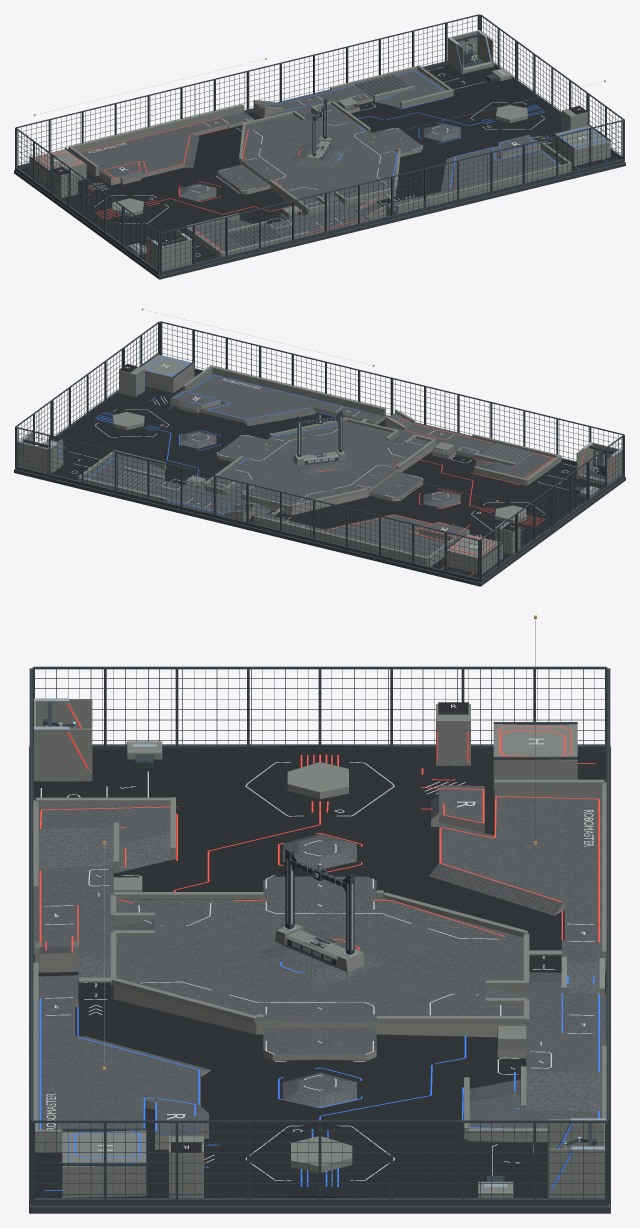
File: map-rmuc2026-ch4v3.glb
3 renders of one model, top to bottom at view 1: azimuth 30°, elevation 25°; view 2: azimuth 150°, elevation 25°; view 3: azimuth 270°, elevation 25°, orthographic. The views are drawn at different scales.
Parts seen in each view (by area): view 1: ArenaChapter4_GraphiteArmor, ArenaChapter4_HighlandAsphalt.001, ArenaChapter4_FieldBlack.001, ArenaChapter4_ProtectiveMetal.001, ArenaChapter4_ConcreteSide.001, ArenaChapter4_WhiteFieldPaint.001, ResourceStation.001_ProtectiveMetal.001, ArenaChapter4_BlueFieldPaint.001, ArenaChapter4_RedFieldPaint.001, RuneGantry_GraphiteArmor, ResourceStation.001_GraphiteArmor; view 2: ArenaChapter4_GraphiteArmor, ArenaChapter4_HighlandAsphalt.001, ArenaChapter4_FieldBlack.001, ArenaChapter4_ProtectiveMetal.001, ArenaChapter4_ConcreteSide.001, ArenaChapter4_WhiteFieldPaint.001, ArenaChapter4_BlueFieldPaint.001, ResourceStation_ProtectiveMetal.001, ArenaChapter4_RedFieldPaint.001, RuneGantry_GraphiteArmor, ResourceStation.001_ProtectiveMetal.001; view 3: ArenaChapter4_HighlandAsphalt.001, ArenaChapter4_FieldBlack.001, ArenaChapter4_GraphiteArmor, ArenaChapter4_ProtectiveMetal.001, ArenaChapter4_ConcreteSide.001, ArenaChapter4_WhiteFieldPaint.001, ArenaChapter4_RedFieldPaint.001, ResourceStation_ProtectiveMetal.001, ResourceStation.001_ProtectiveMetal.001, ArenaChapter4_BlueFieldPaint.001, RuneGantry_GraphiteArmor, RuneGantry_BrushedTitanium (+1 smaller).
Boxes of the visible parts, x1=… form: ArenaChapter4_GraphiteArmor: x1=14, y1=14, x2=625, y2=279; ArenaChapter4_HighlandAsphalt.001: x1=79, y1=69, x2=561, y2=251; ArenaChapter4_FieldBlack.001: x1=20, y1=64, x2=619, y2=263; ArenaChapter4_ProtectiveMetal.001: x1=29, y1=36, x2=610, y2=270; ArenaChapter4_ConcreteSide.001: x1=97, y1=98, x2=540, y2=256; ArenaChapter4_WhiteFieldPaint.001: x1=53, y1=67, x2=586, y2=256; ResourceStation.001_ProtectiveMetal.001: x1=448, y1=31, x2=493, y2=73; ArenaChapter4_BlueFieldPaint.001: x1=264, y1=70, x2=607, y2=188; ArenaChapter4_RedFieldPaint.001: x1=35, y1=118, x2=376, y2=251; RuneGantry_GraphiteArmor: x1=312, y1=97, x2=330, y2=160; ResourceStation.001_GraphiteArmor: x1=448, y1=33, x2=493, y2=74; ArenaChapter4_GraphiteArmor: x1=14, y1=321, x2=625, y2=586; ArenaChapter4_HighlandAsphalt.001: x1=84, y1=374, x2=554, y2=556; ArenaChapter4_FieldBlack.001: x1=52, y1=372, x2=604, y2=577; ArenaChapter4_ProtectiveMetal.001: x1=18, y1=354, x2=613, y2=574; ArenaChapter4_ConcreteSide.001: x1=167, y1=398, x2=475, y2=565; ArenaChapter4_WhiteFieldPaint.001: x1=69, y1=364, x2=576, y2=548; ArenaChapter4_BlueFieldPaint.001: x1=88, y1=356, x2=360, y2=513; ResourceStation_ProtectiveMetal.001: x1=576, y1=443, x2=622, y2=485; ArenaChapter4_RedFieldPaint.001: x1=316, y1=418, x2=553, y2=575; RuneGantry_GraphiteArmor: x1=297, y1=411, x2=342, y2=464; ResourceStation.001_ProtectiveMetal.001: x1=17, y1=436, x2=63, y2=473; ArenaChapter4_HighlandAsphalt.001: x1=33, y1=785, x2=606, y2=1135; ArenaChapter4_FieldBlack.001: x1=34, y1=745, x2=605, y2=1197; ArenaChapter4_GraphiteArmor: x1=29, y1=666, x2=610, y2=1213; ArenaChapter4_ProtectiveMetal.001: x1=33, y1=699, x2=606, y2=1197; ArenaChapter4_ConcreteSide.001: x1=33, y1=813, x2=605, y2=1151; ArenaChapter4_WhiteFieldPaint.001: x1=40, y1=738, x2=594, y2=1180; ArenaChapter4_RedFieldPaint.001: x1=39, y1=725, x2=599, y2=952; ResourceStation_ProtectiveMetal.001: x1=33, y1=701, x2=92, y2=781; ResourceStation.001_ProtectiveMetal.001: x1=547, y1=1123, x2=604, y2=1197; ArenaChapter4_BlueFieldPaint.001: x1=39, y1=961, x2=600, y2=1190; RuneGantry_GraphiteArmor: x1=285, y1=846, x2=354, y2=967; RuneGantry_BrushedTitanium: x1=283, y1=858, x2=357, y2=962.
Bounding box in the file's own units: 28.25 × 4.18 × 15.25.
15 materials, 1 textured.
